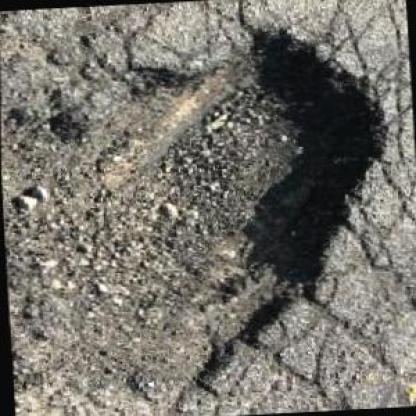pothole: (0, 16, 405, 414)
